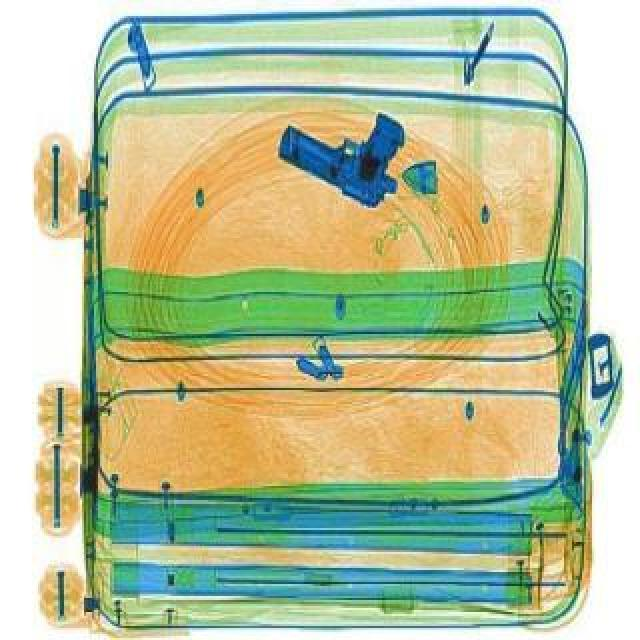gun: (272, 76, 430, 208)
